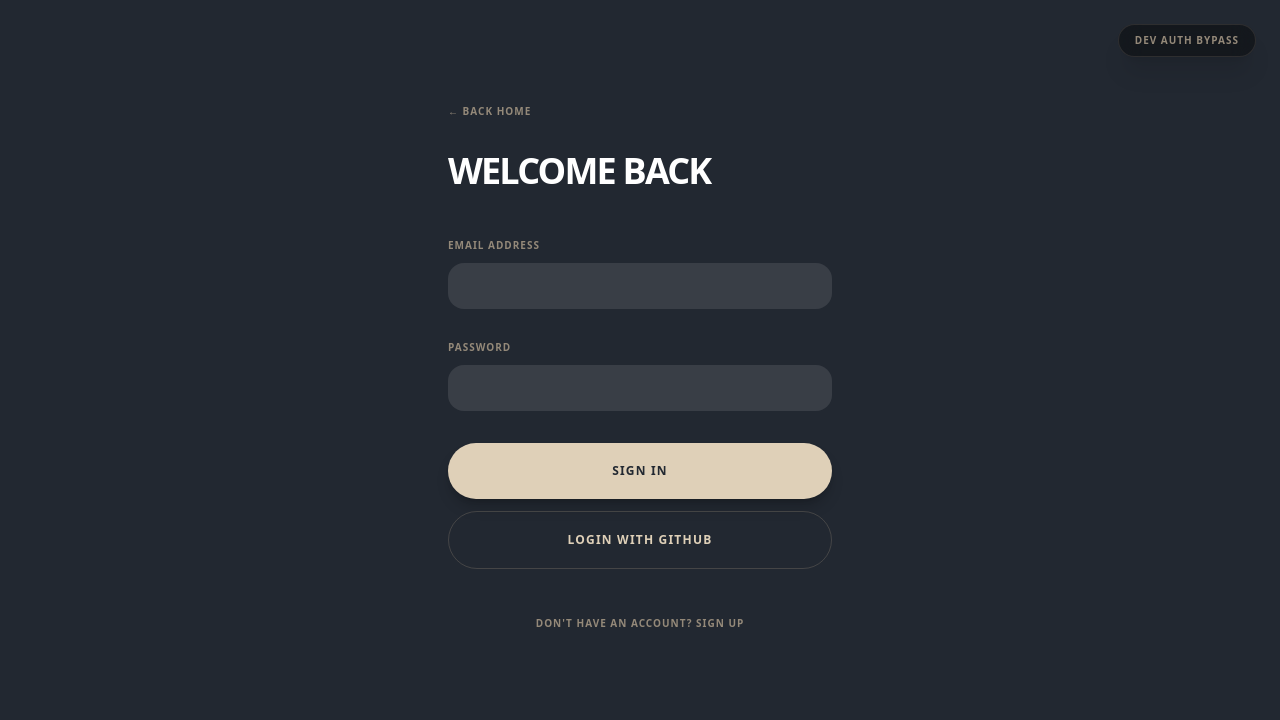
Dev Auth Bypass › should show the Dev Auth Bypass button and redirect to dashboard
Check if the bypass button exists
Click the button "Dev Auth Bypass" at (1187, 41), box [1118,24,1256,57]
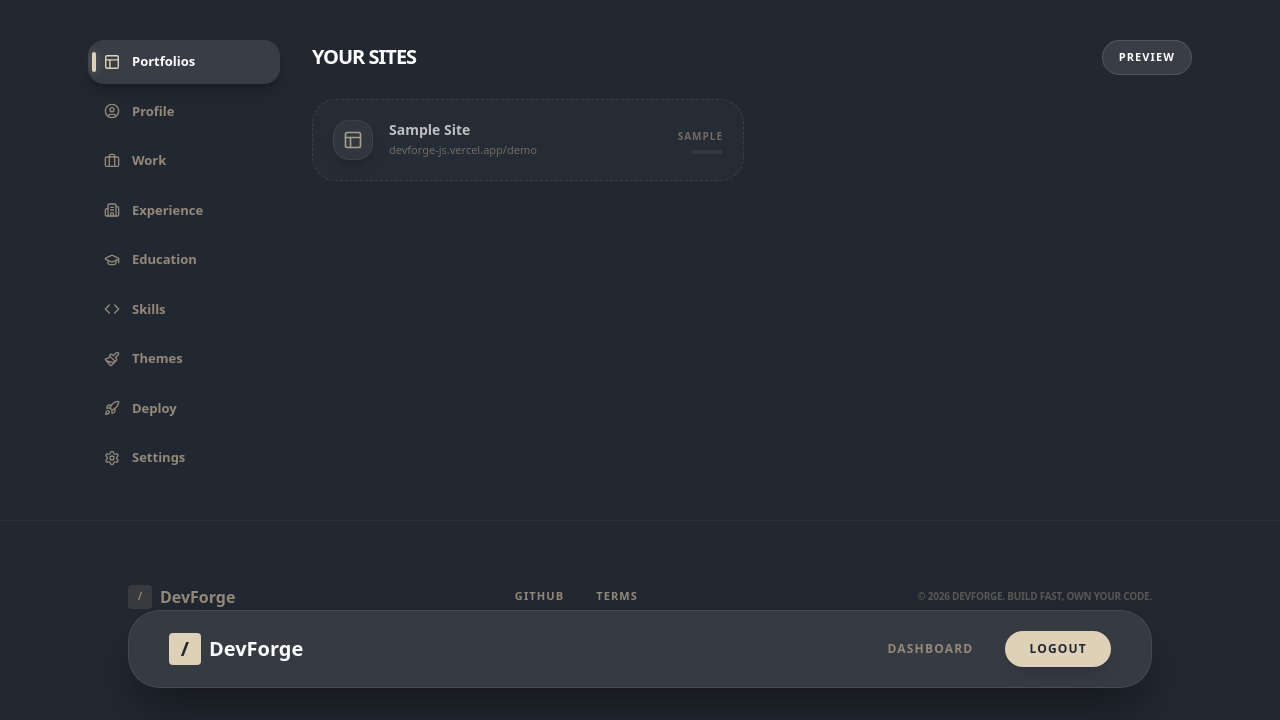
Check: the heading "Your Sites" is shown, box [312,43,416,71]
